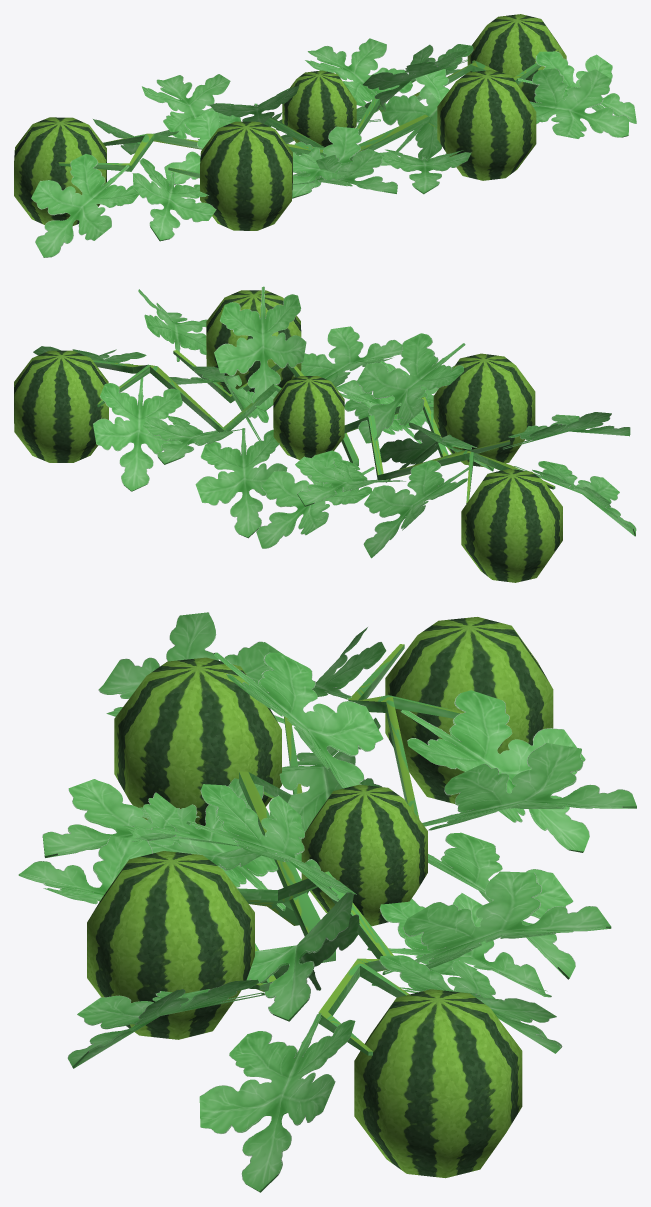
The model's file is melon2.fbx.
3 renders of one model, top to bottom at view 1: azimuth 30°, elevation 25°; view 2: azimuth 150°, elevation 25°; view 3: azimuth 270°, elevation 25°, orthographic. The views are drawn at different scales.
Parts seen in each view (by area): view 1: Mesh Object; view 2: Mesh Object; view 3: Mesh Object.
Part boxes in pixels (<box>): Mesh Object: <box>14,14,636,257</box>; Mesh Object: <box>14,286,636,582</box>; Mesh Object: <box>18,612,636,1192</box>.
Bounding box in the file's own units: 2.46 × 0.5894 × 1.3.
